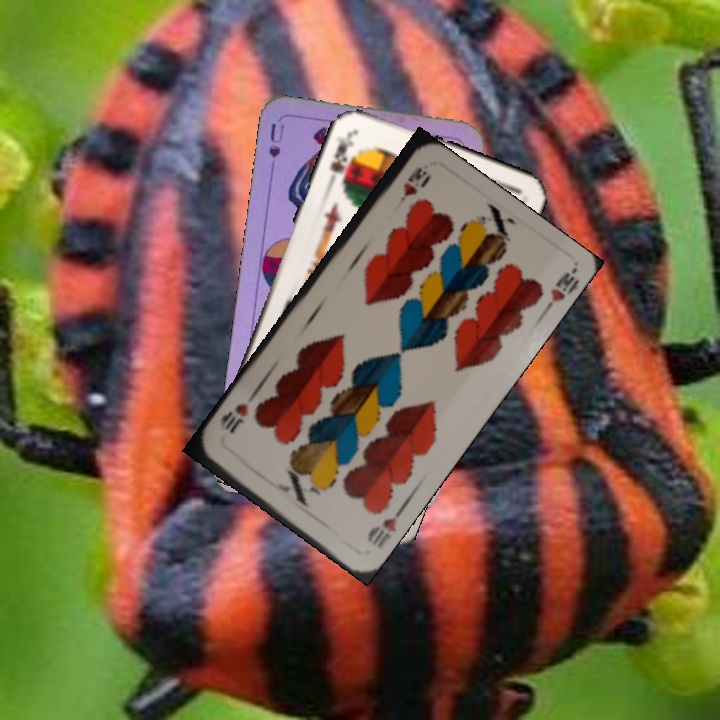H10: (362, 504, 406, 551), (389, 163, 428, 214)
SK: (324, 129, 360, 189)
SU: (265, 119, 287, 178)
